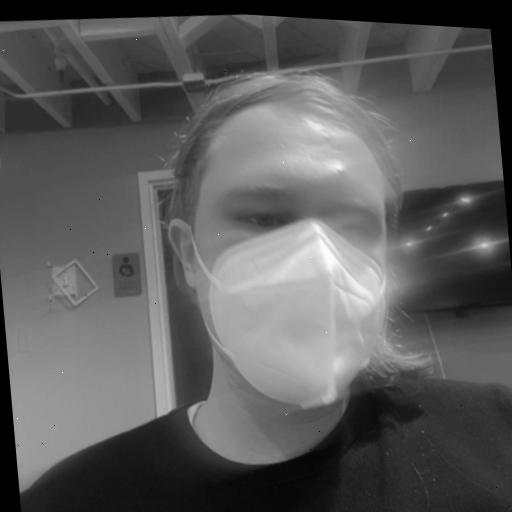mask: (94, 43, 432, 497)
